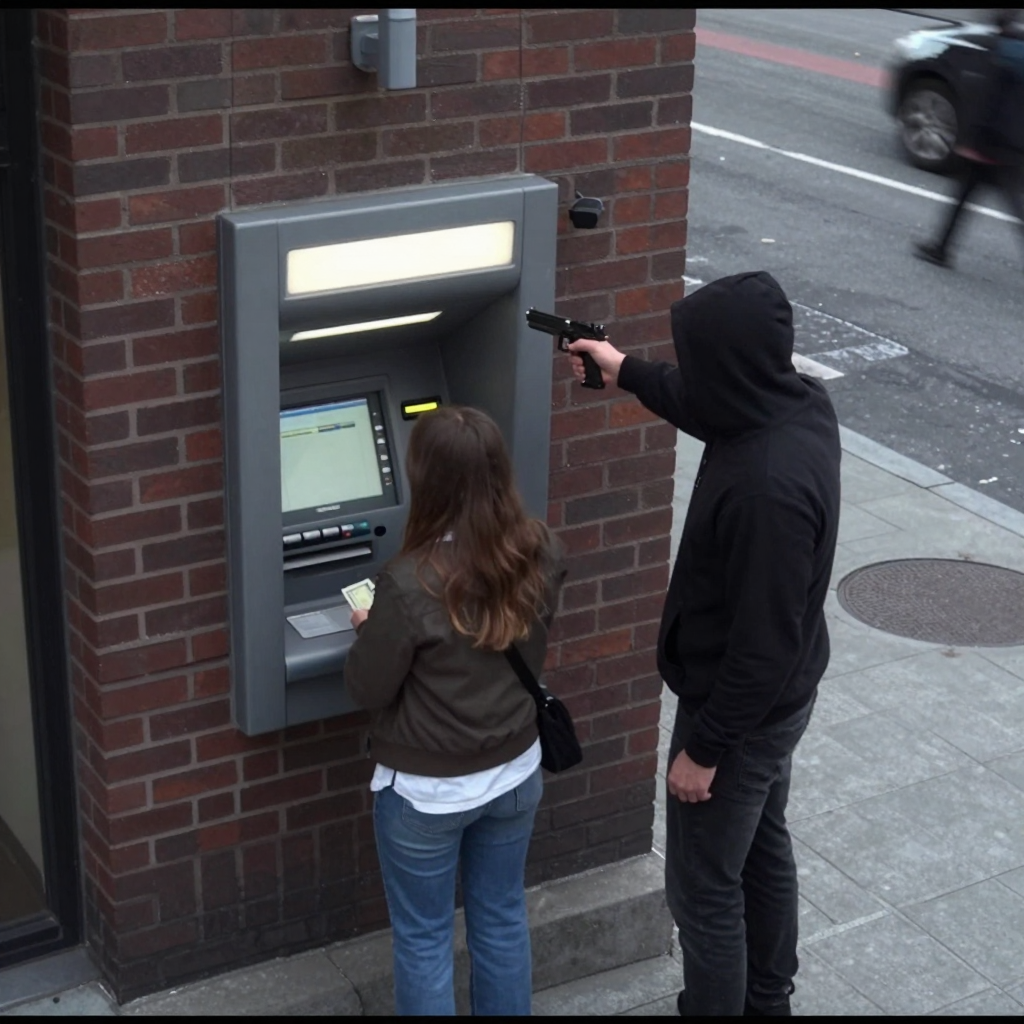Robbery: (562, 270, 843, 1015), (342, 404, 571, 1017)
Shooting: (525, 308, 608, 390)
